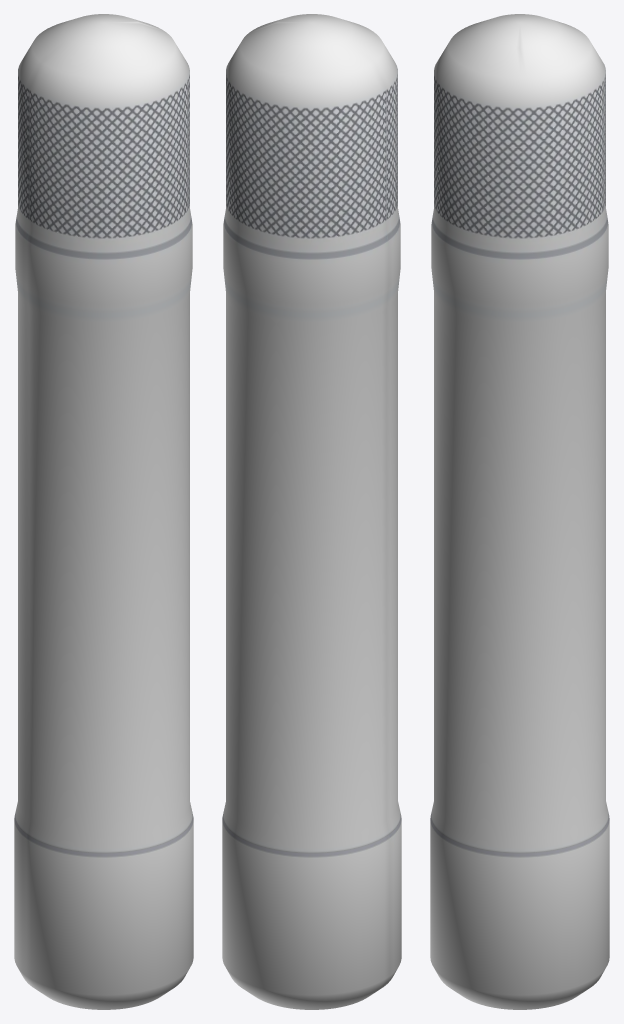
The model's file is rode-nt5.glb.
3 renders of one model, left to right at view 1: azimuth 30°, elevation 25°; view 2: azimuth 150°, elevation 25°; view 3: azimuth 270°, elevation 25°, orthographic.
Parts seen in each view (by area): view 1: rode-nt5-body; view 2: rode-nt5-body; view 3: rode-nt5-body.
Boxes of the visible parts, left/top/right/bottom form: rode-nt5-body: left=14, top=14, right=193, bottom=1009; rode-nt5-body: left=222, top=14, right=401, bottom=1009; rode-nt5-body: left=430, top=14, right=609, bottom=1009.
Size of the model in its own units: 0.02 by 0.118 by 0.02.
1 material, 1 textured.
